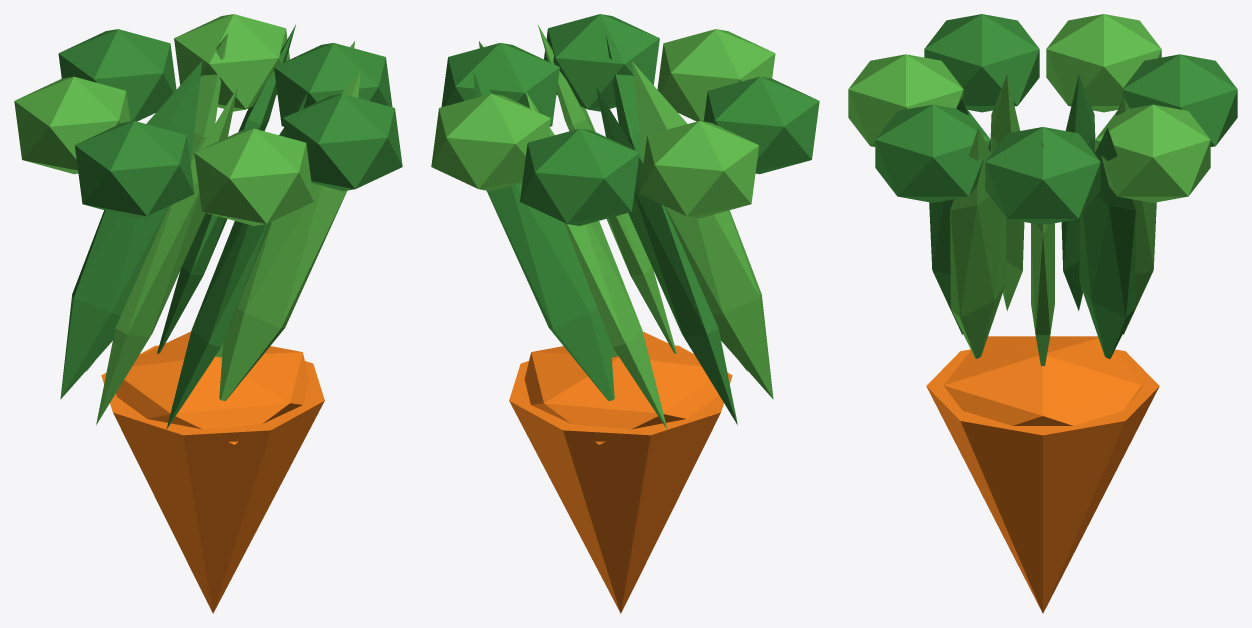
File: crop_carrot_3.glb
3 renders of one model, left to right at view 1: azimuth 30°, elevation 25°; view 2: azimuth 150°, elevation 25°; view 3: azimuth 270°, elevation 25°, orthographic.
Visible parts, largest first — view 1: crop_carrot_3; view 2: crop_carrot_3; view 3: crop_carrot_3.
Part boxes in pixels (left/top/right/bottom): crop_carrot_3: left=14, top=14, right=402, bottom=613; crop_carrot_3: left=431, top=14, right=819, bottom=613; crop_carrot_3: left=848, top=14, right=1237, bottom=613.
Size of the model in its own units: 0.5626 by 0.8728 by 0.5639.
